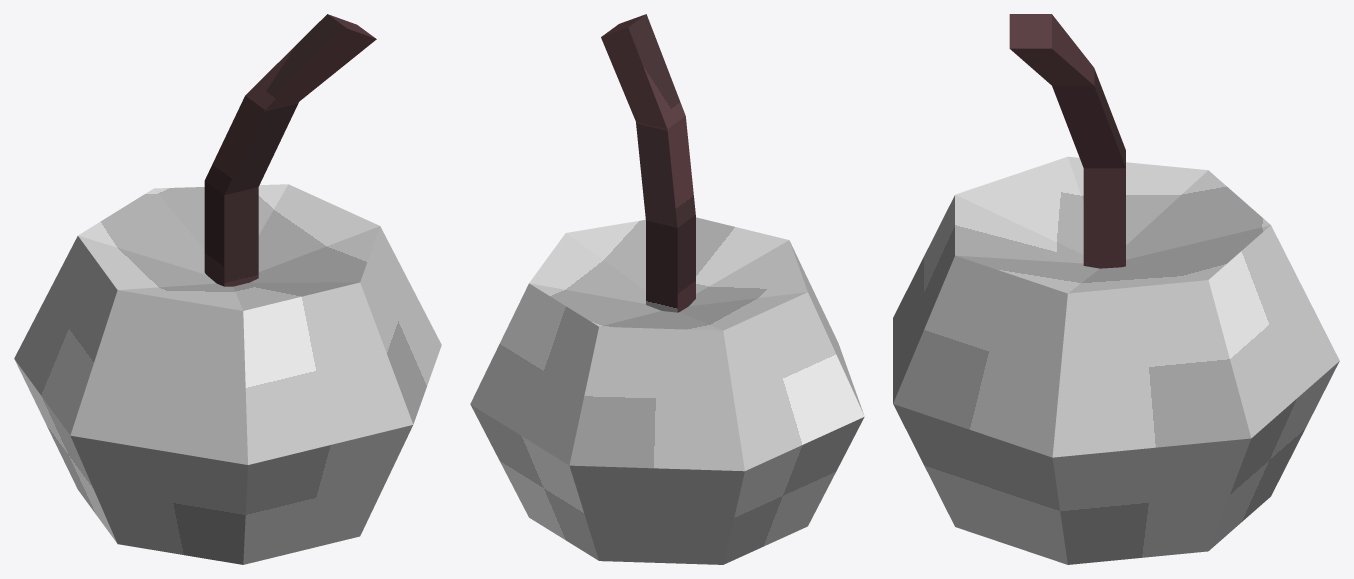
Rendered from PeletCherry.fbx.
The picture shows the model from 3 angles, left to right: view 1: azimuth 30°, elevation 25°; view 2: azimuth 150°, elevation 25°; view 3: azimuth 270°, elevation 25°; orthographic projection. The views are drawn at different scales.
Parts seen in each view (by area): view 1: sphere, cube; view 2: sphere, cube; view 3: sphere, cube.
Boxes of the visible parts, <box> form: sphere: <box>14,184,441,564</box>; cube: <box>204,14,376,286</box>; sphere: <box>470,217,864,564</box>; cube: <box>601,14,695,312</box>; sphere: <box>893,156,1339,564</box>; cube: <box>1009,14,1125,268</box>.
Size of the model in its own units: 27.05 by 37.5 by 26.37.
1 material, 1 textured.
